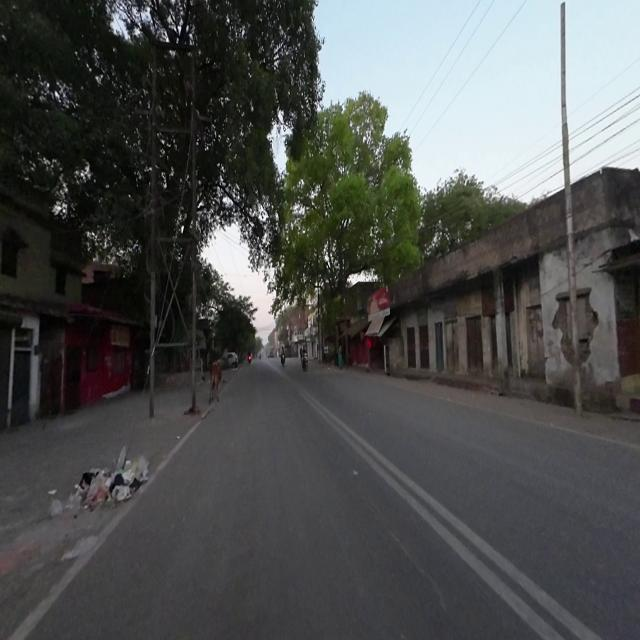Garbage: (74, 464, 144, 506)
